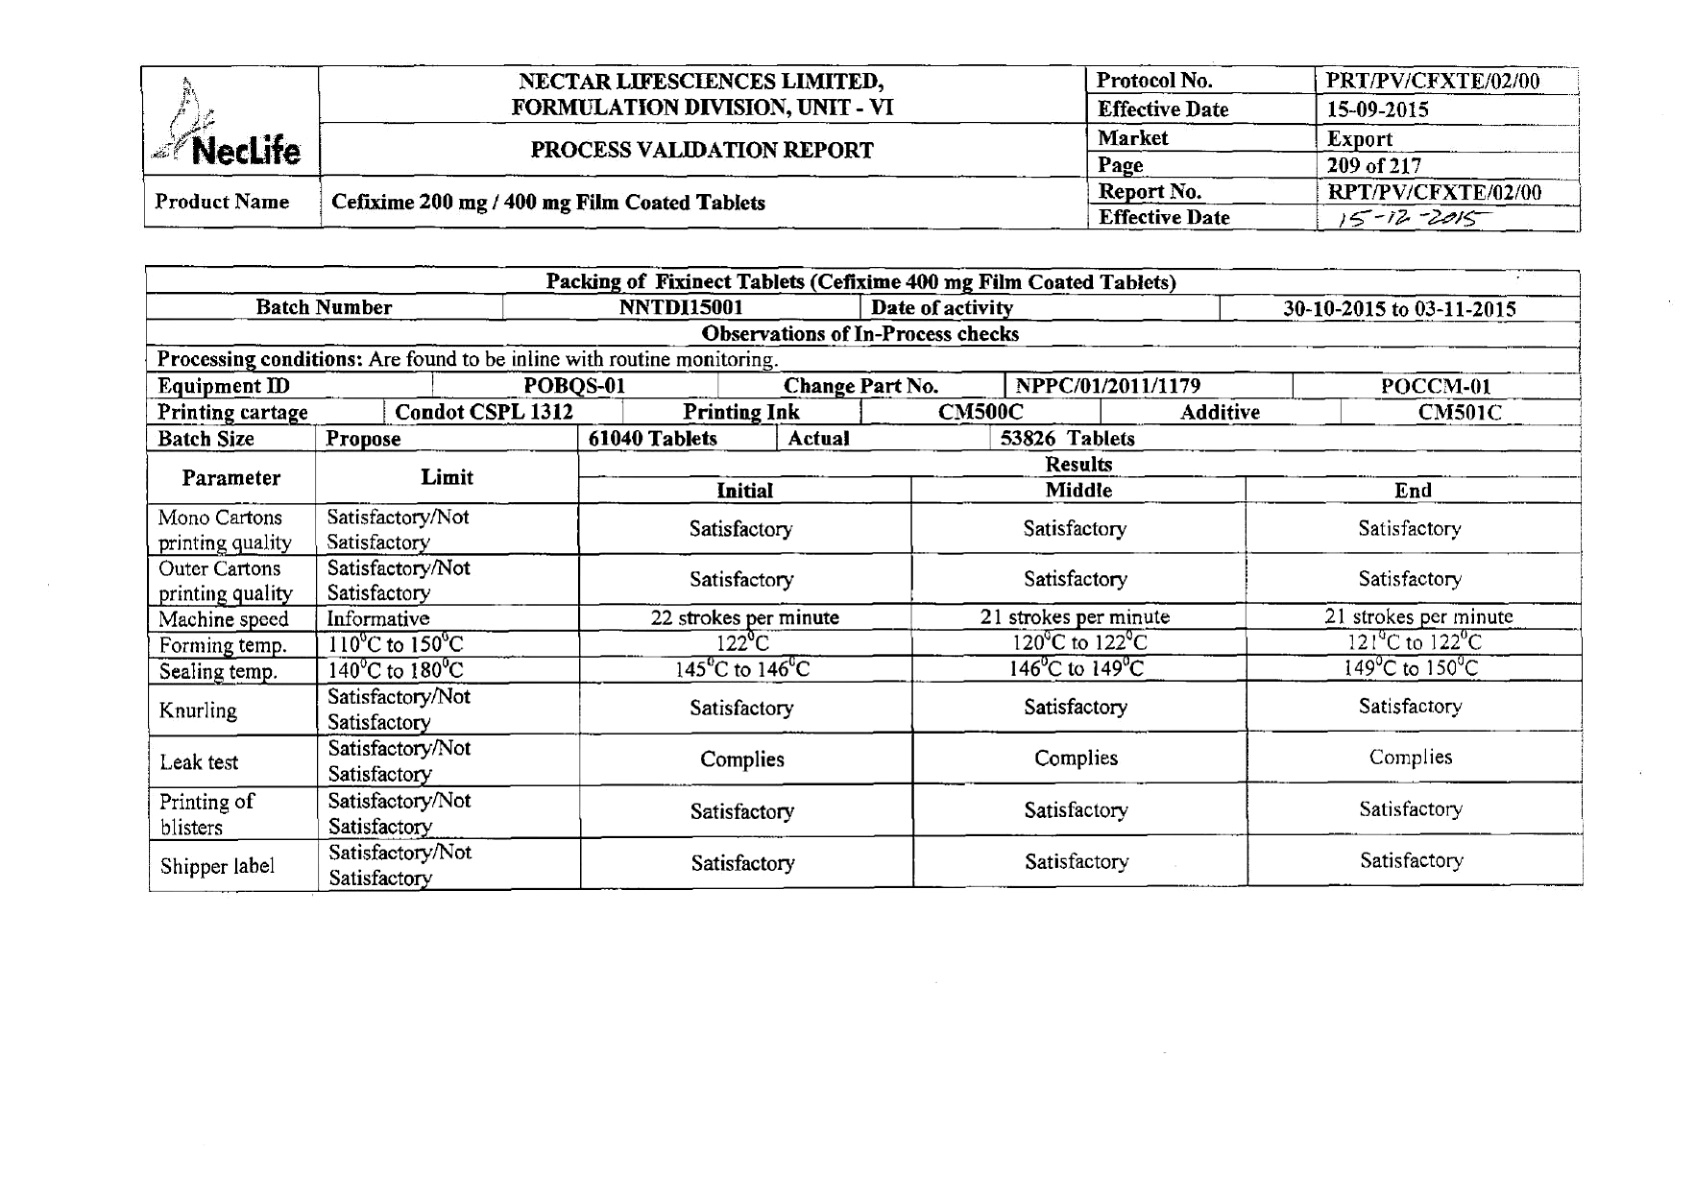merged_cells: (143, 263, 1586, 893), (137, 63, 1582, 235)
